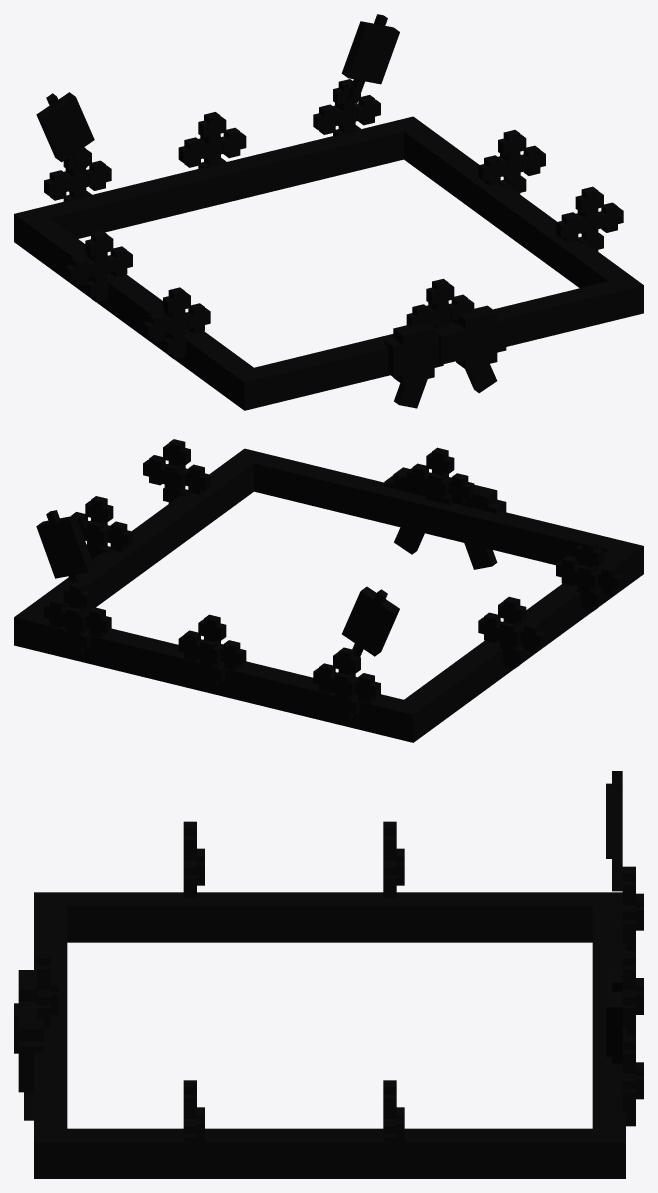
Rendered from hat_bloom_crown.obj.
The picture shows the model from 3 angles, top to bottom: view 1: azimuth 30°, elevation 25°; view 2: azimuth 150°, elevation 25°; view 3: azimuth 270°, elevation 25°; orthographic projection. The views are drawn at different scales.
Bounding box in the file's own units: 0.662 × 0.235 × 0.5919.
